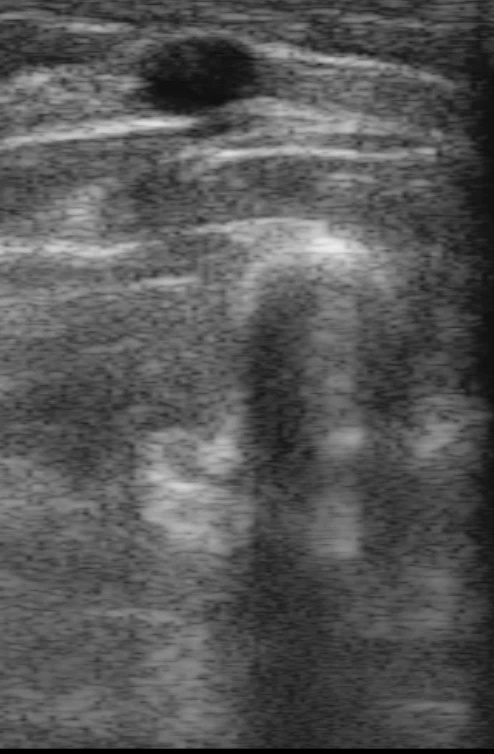veins_detect: (128, 29, 272, 124)
veins_seg: (141, 35, 262, 115)
